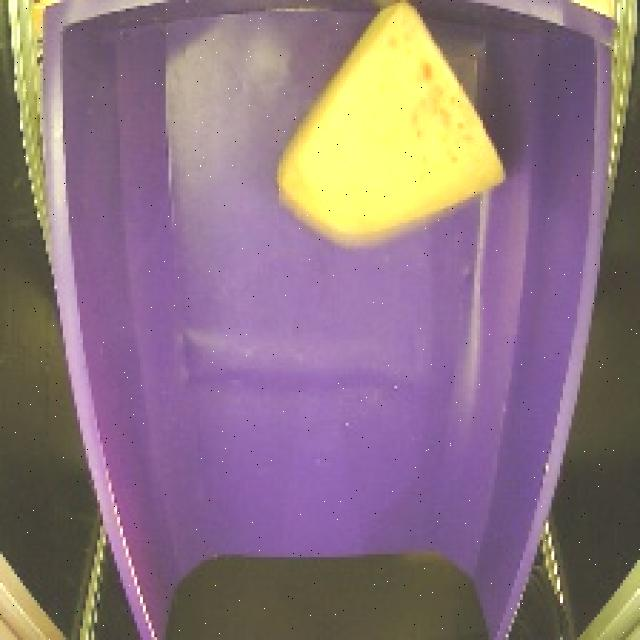potato: (270, 0, 514, 259)
